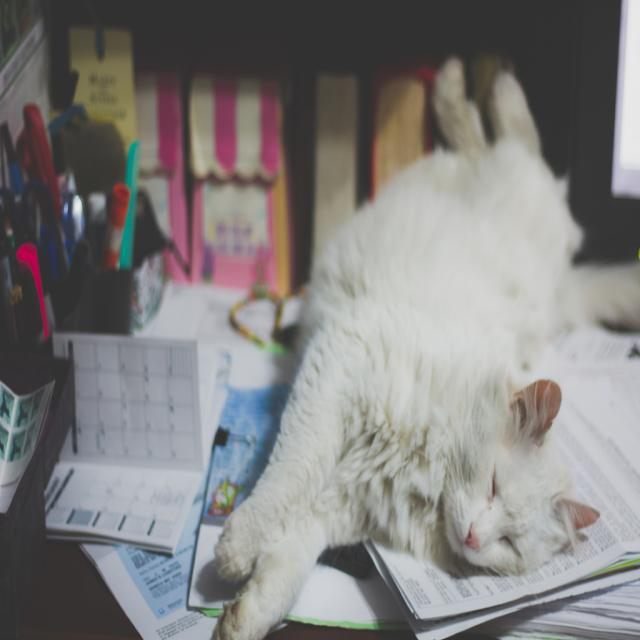Cat: (210, 49, 604, 638)
